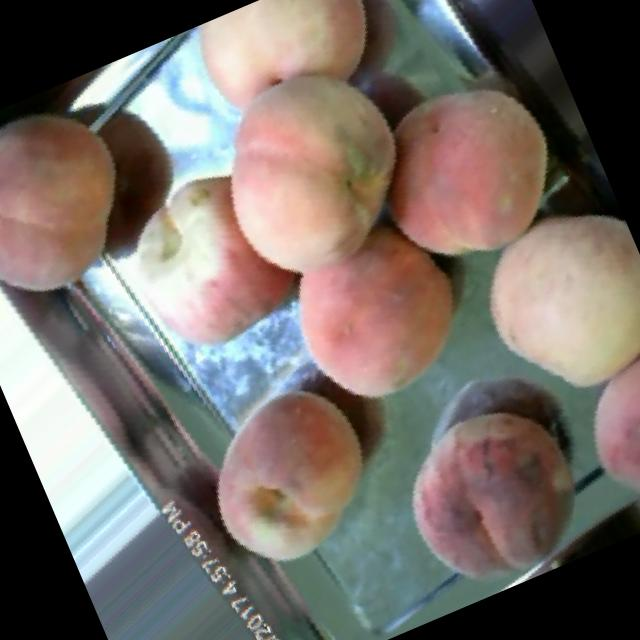Fruit: (163, 14, 468, 328), (320, 29, 606, 316), (357, 355, 628, 619), (158, 344, 422, 604), (80, 120, 332, 390), (247, 195, 508, 448), (437, 174, 640, 442), (0, 68, 183, 346), (166, 0, 424, 159), (533, 312, 640, 545)
